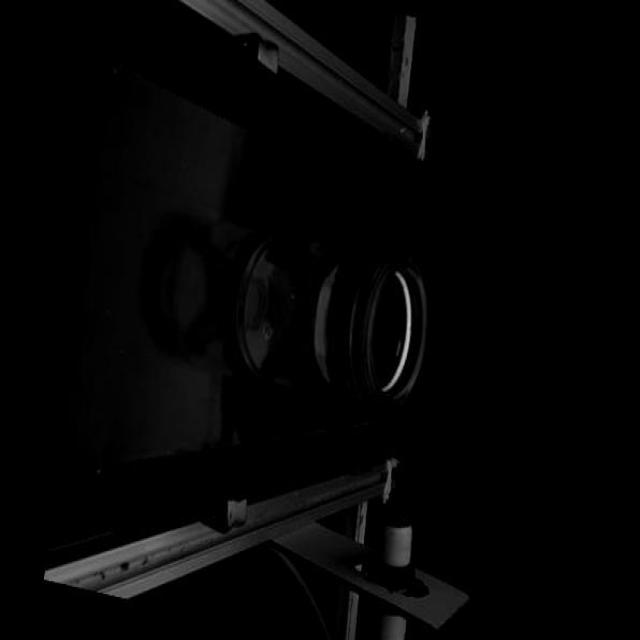defect: (330, 276, 337, 294)
glass: (223, 212, 440, 424)
